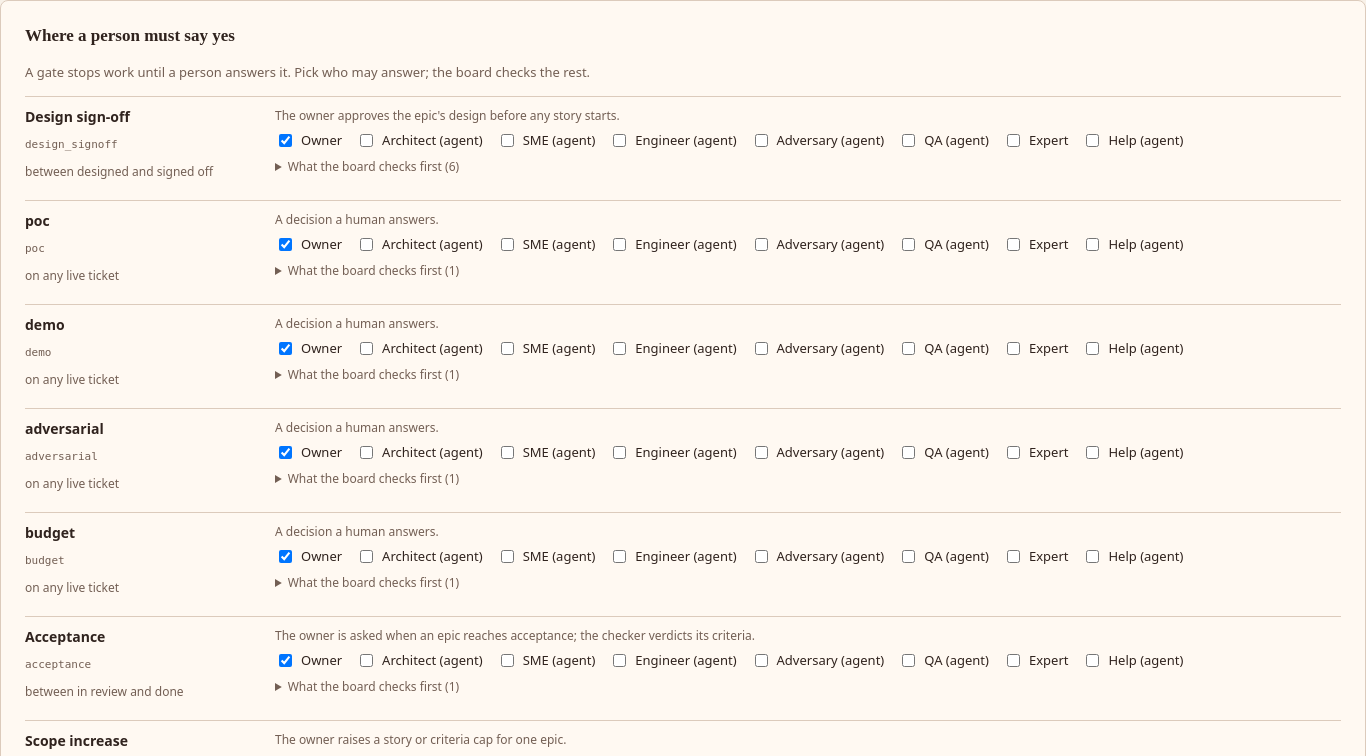
hooks, gates and caps › gates: answerers are checkboxes; dropping every human flags the gate
The width and height of the screenshot is (1366, 756).
Expected: the element with test id "gate-design_signoff" shows "between designed and signed off", [25,96,1341,188]
Expected: the element with test id "gate-design_signoff" shows "Design sign-off", [25,107,130,126]
Click the checkbox with test id "gate-answerer-design_signoff-owner".
click(286, 140)  # box [279,134,292,146]
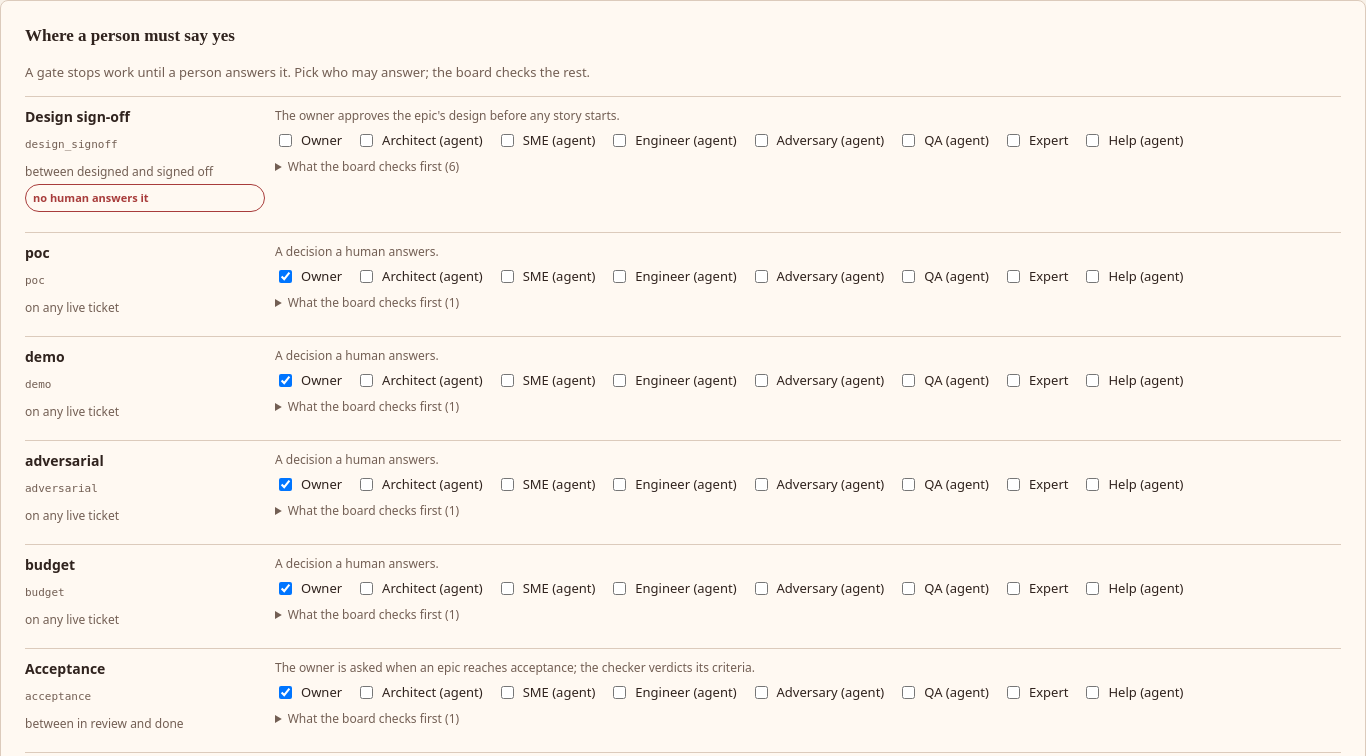
Expected: the element with test id "gate-design_signoff" shows "no human answers it", [33,190,149,205]
